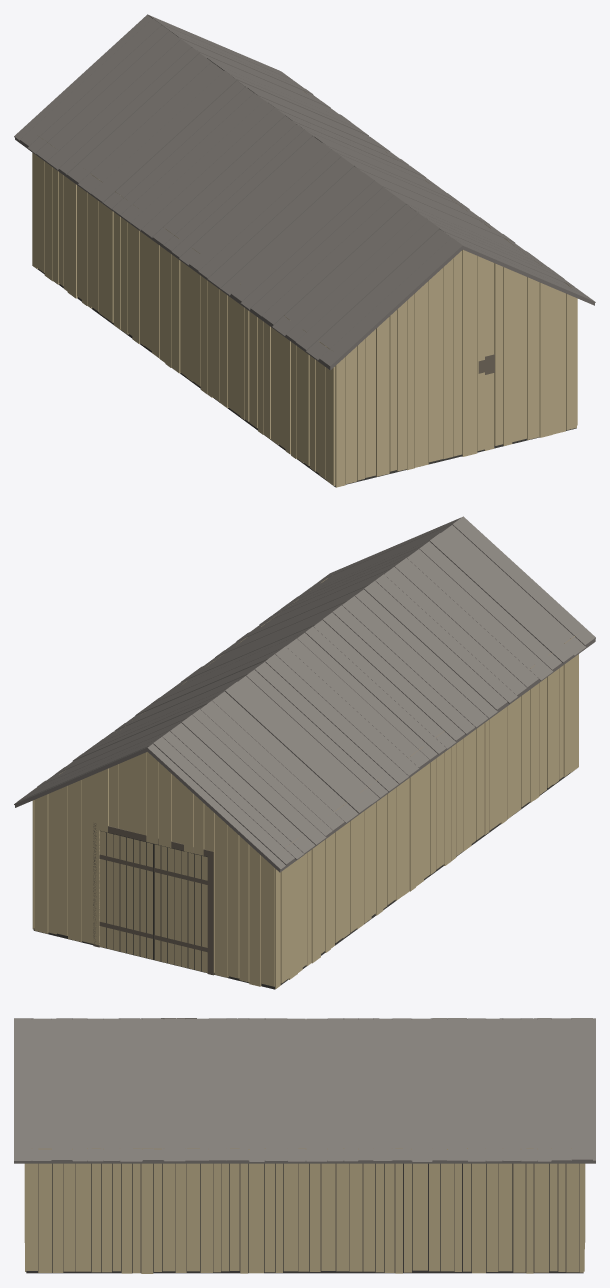
The model's file is recon_1835_north_f1_022__inferred_1835.glb.
The picture shows the model from 3 angles, top to bottom: view 1: azimuth 30°, elevation 25°; view 2: azimuth 150°, elevation 25°; view 3: azimuth 270°, elevation 25°; orthographic projection. The views are drawn at different scales.
Parts seen in each view (by area): view 1: recon_1835_north_f1_022__inferred_1835; view 2: recon_1835_north_f1_022__inferred_1835; view 3: recon_1835_north_f1_022__inferred_1835.
Boxes of the visible parts, left/top/right/bottom form: recon_1835_north_f1_022__inferred_1835: left=14, top=14, right=595, bottom=487; recon_1835_north_f1_022__inferred_1835: left=14, top=516, right=595, bottom=989; recon_1835_north_f1_022__inferred_1835: left=14, top=1018, right=595, bottom=1273.
Bounding box in the file's own units: 7.21 × 5.58 × 14.65.
